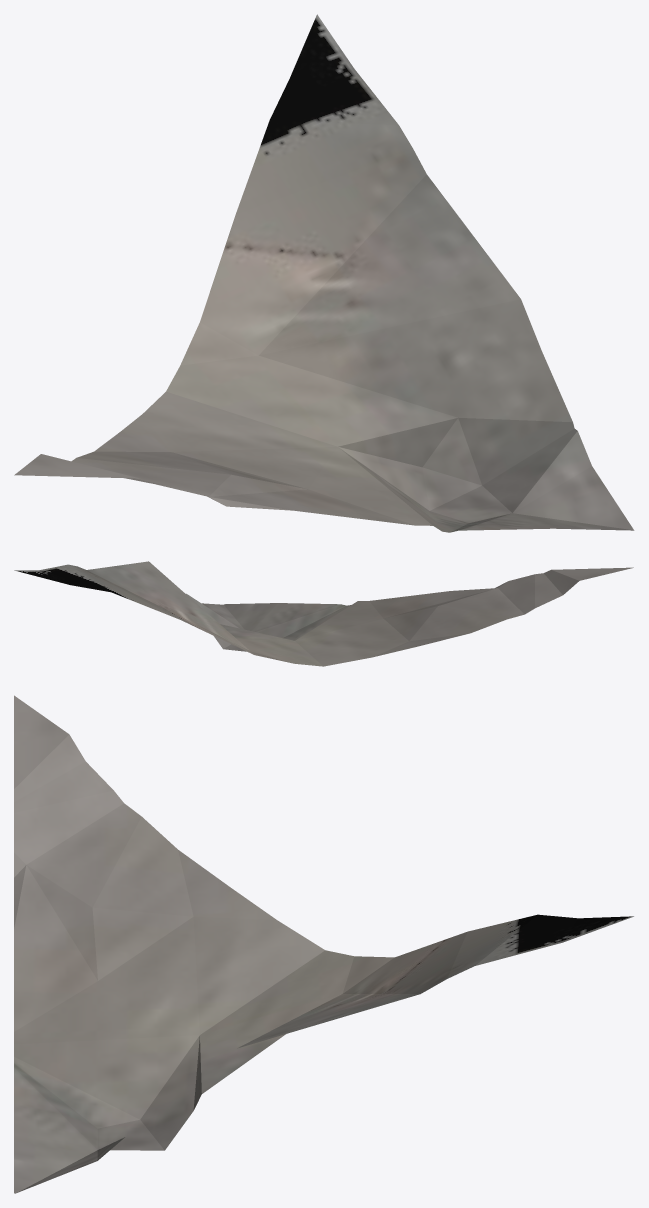
3 renders of one model, top to bottom at view 1: azimuth 30°, elevation 25°; view 2: azimuth 150°, elevation 25°; view 3: azimuth 270°, elevation 25°, orthographic. The views are drawn at different scales.
Size of the model in its own units: 1.18 by 0.5145 by 1.04.
Materials: 1 (1 with a texture image).
